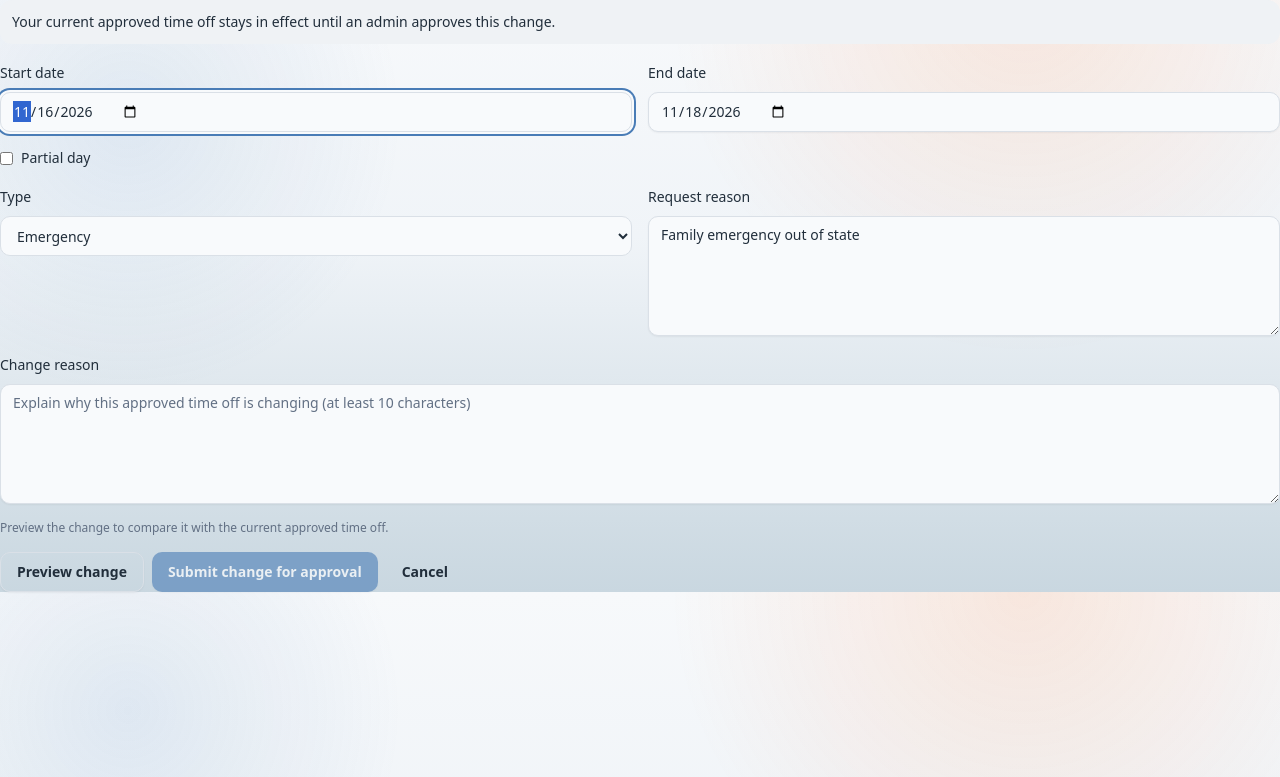
Test: TimeOffChangeEditor › shows the per-cycle PTO difference without promising a reservation
Type "2026-11-19" into the date field labelled "End date". click: (964, 112)
box: [648,92,1279,132]
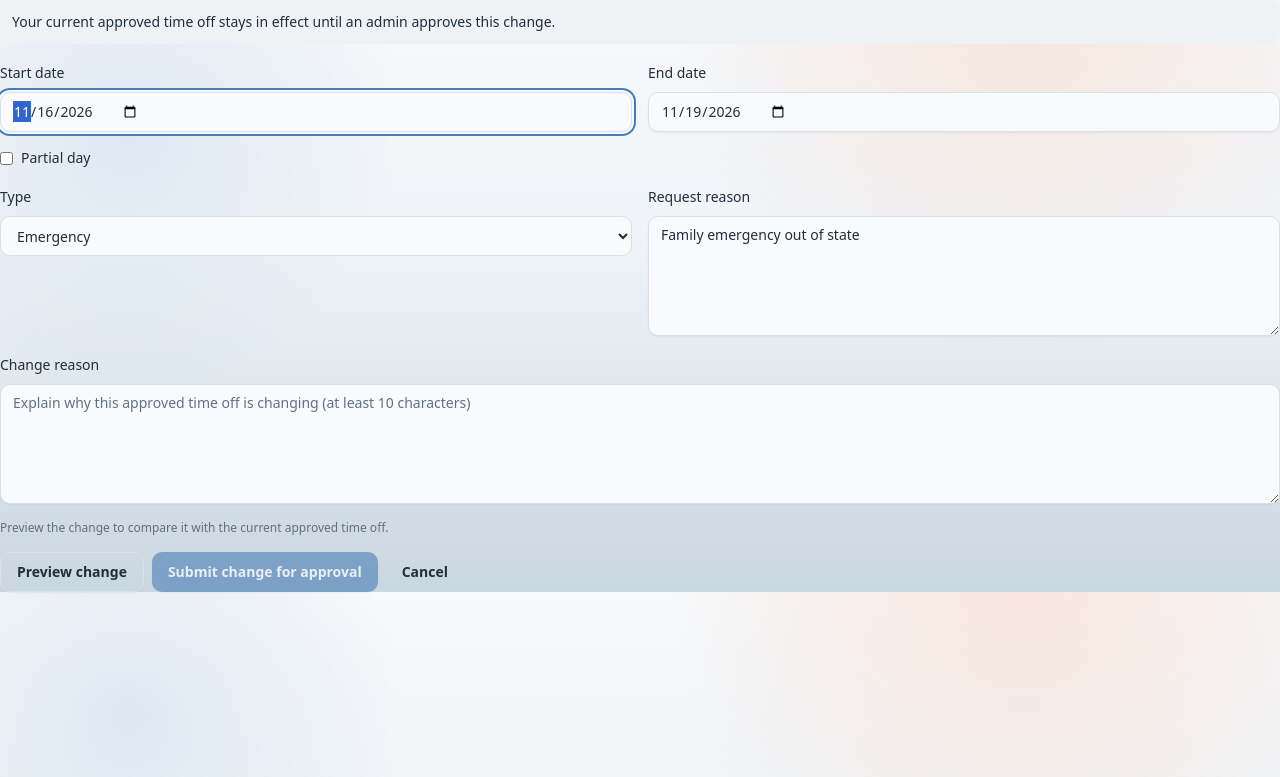
Click the button "Preview change". click: click(72, 572)
box: [0,552,144,592]
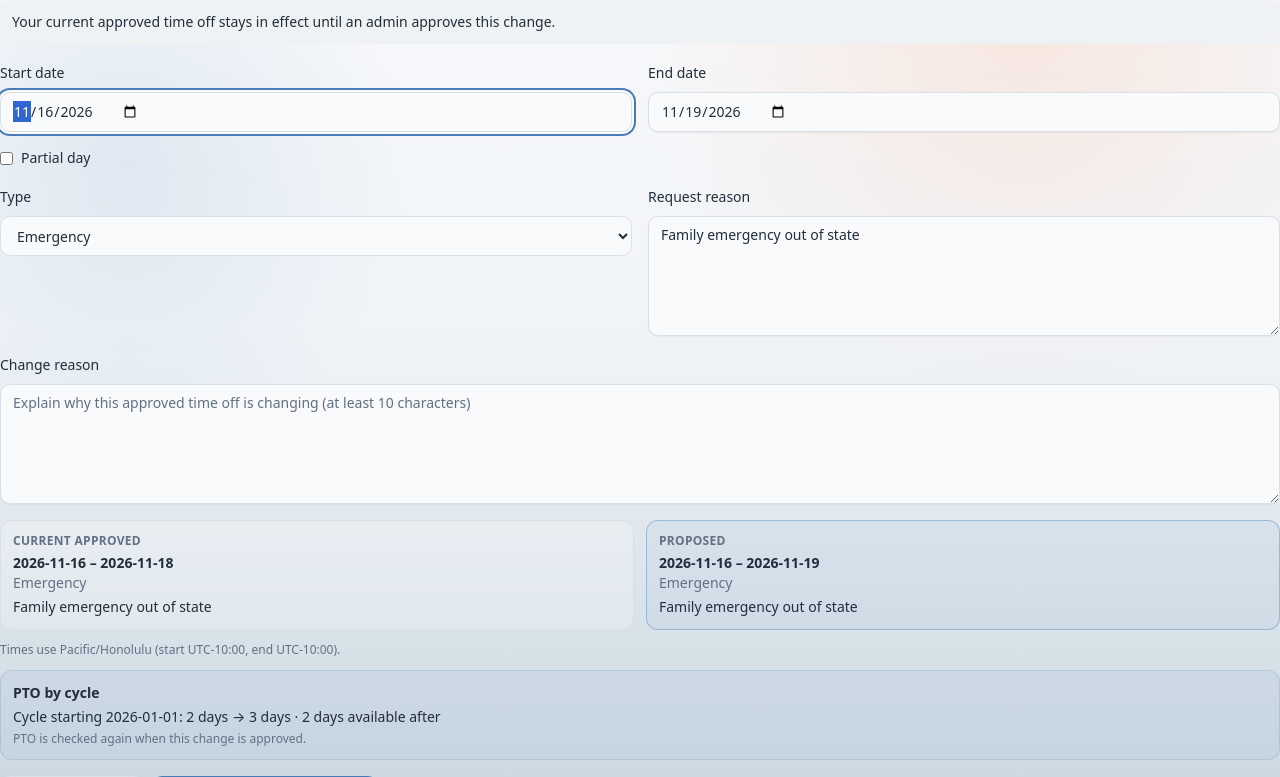
Expected: the heading "Proposed" is shown, [659,532,726,549]
Expected: the list item "2026-01-01" is shown, [106,707,179,726]
Expected: the list item "2 days → 3 days" is shown, [13,707,441,726]
